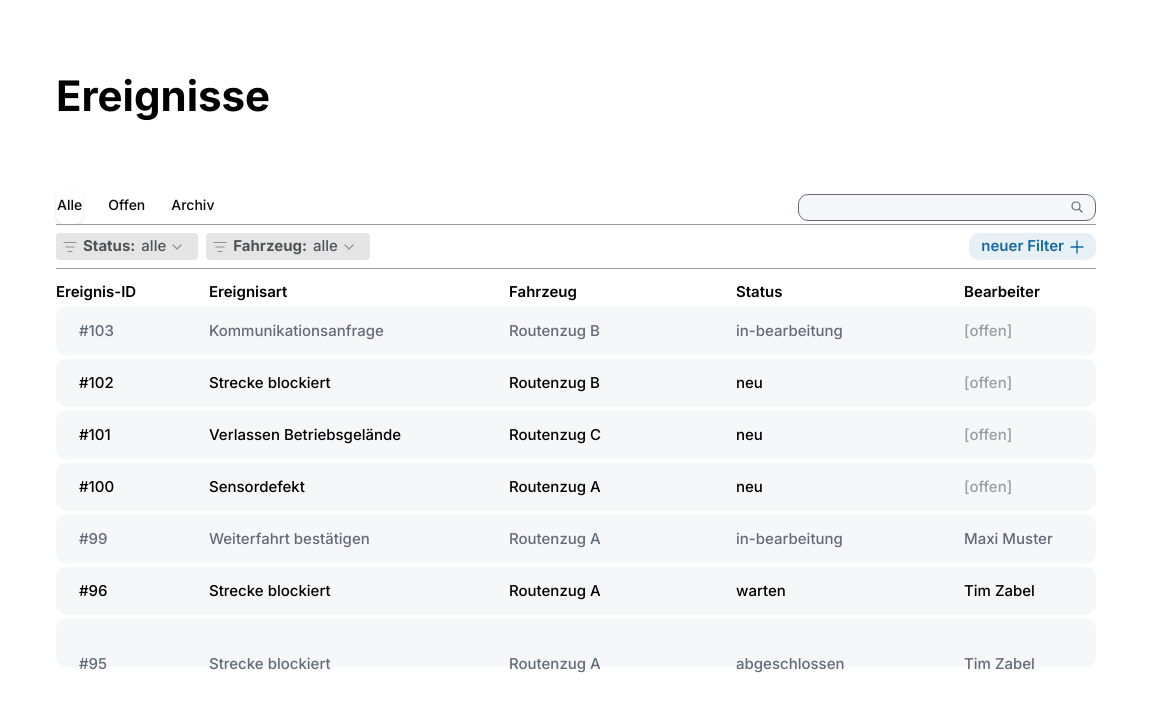
Test: EreignissePage — FD-01: Filter-Dialog Integration › Filter auf status=abgeschlossen → nur #95 in der Liste
This screenshot has width=1152, height=720.
Click the button "neuer Filter".
click(1033, 246)  # box [969, 233, 1096, 260]
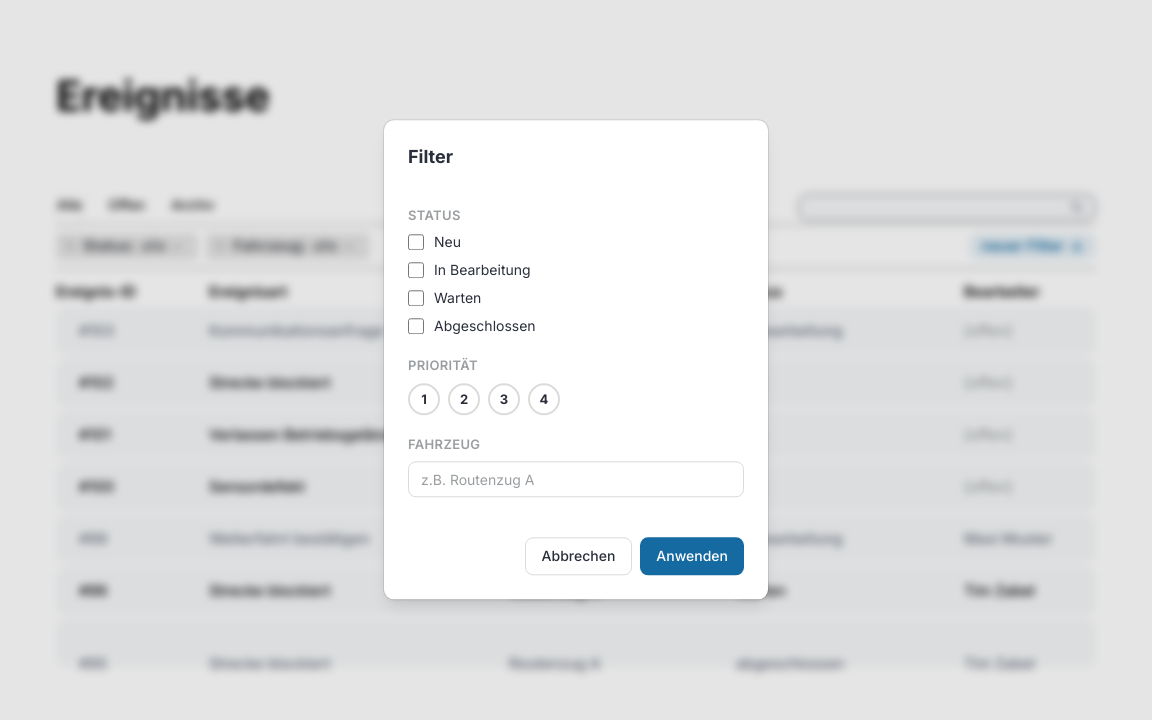
Click the checkbox labelled "Abgeschlossen".
click(416, 327)  # box [408, 319, 424, 335]
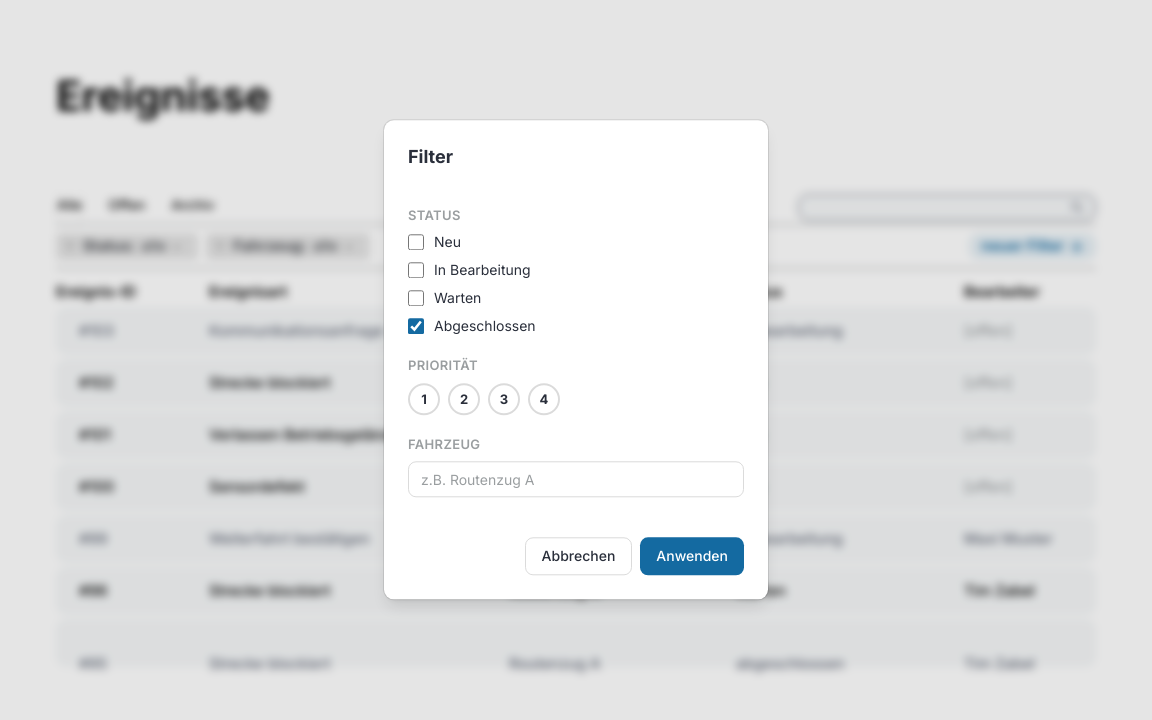
Click the button "Anwenden".
click(692, 557)  # box [640, 538, 744, 576]
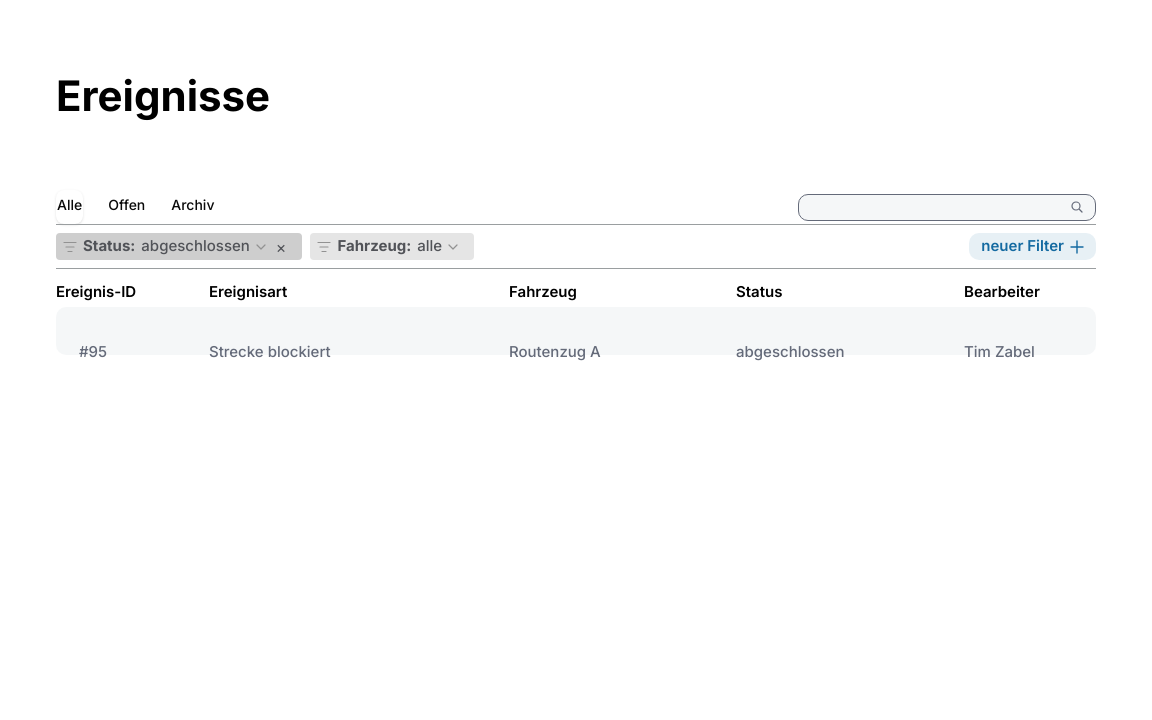
Expected: the text "#95" is shown, [79, 342, 107, 361]
Now the text "#103" is gone
Now the text "#99" is gone
